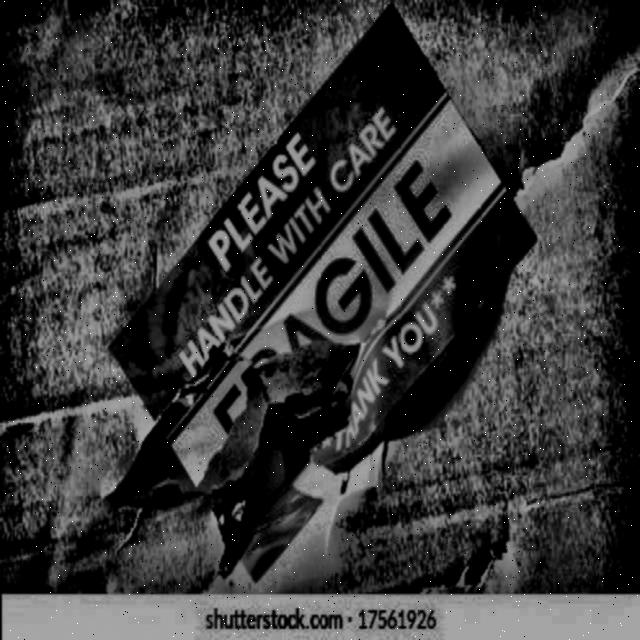box: (0, 0, 640, 640)
hole: (212, 371, 350, 575)
